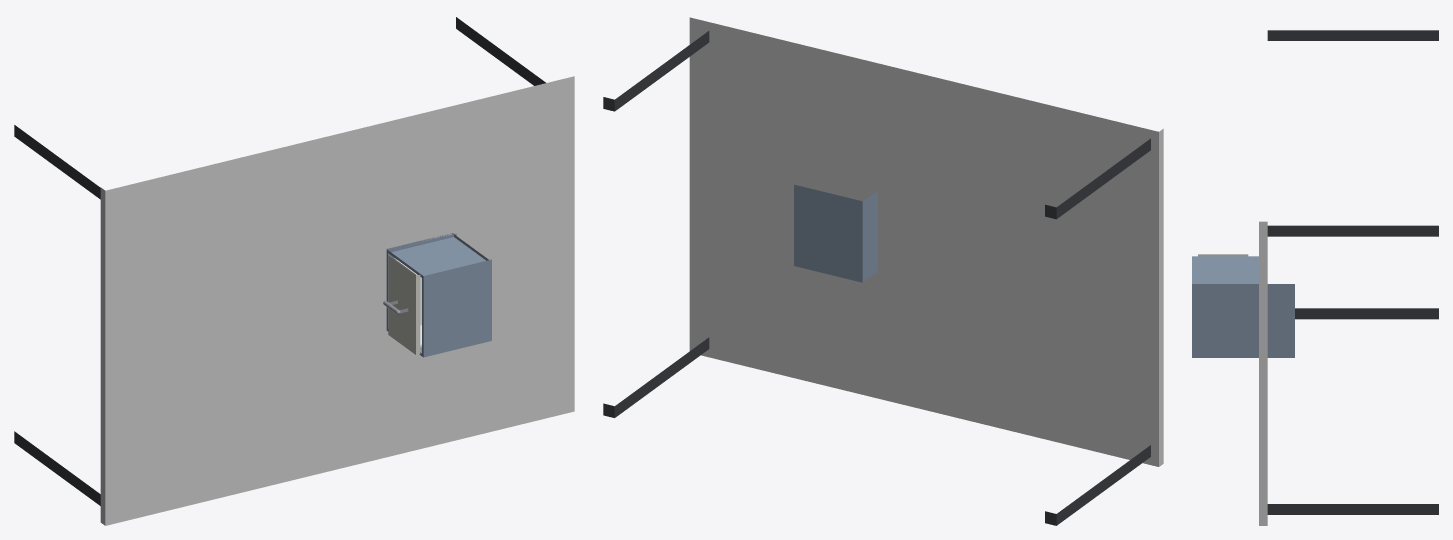
Rendered from t2_8f015dfab4.glb.
3 renders of one model, left to right at view 1: azimuth 30°, elevation 25°; view 2: azimuth 150°, elevation 25°; view 3: azimuth 270°, elevation 25°, orthographic. The views are drawn at different scales.
Visible parts, largest first — view 1: s0, s1, s2; view 2: s0, s1; view 3: s0, s1.
Part boxes in pixels (box(x1,y1,x2,y2)): s0: box(14, 17, 574, 525); s1: box(386, 233, 491, 357); s2: box(383, 255, 421, 354); s0: box(603, 17, 1163, 525); s1: box(794, 184, 877, 282); s0: box(1259, 30, 1438, 525); s1: box(1192, 256, 1294, 357).
Bounding box in the file's own units: 2.05 × 1.4 × 1.03.
